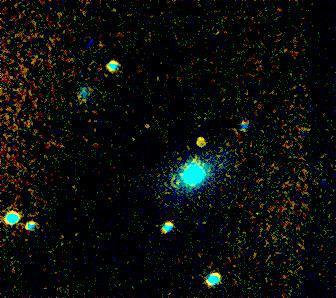star: (185, 131, 215, 161)
